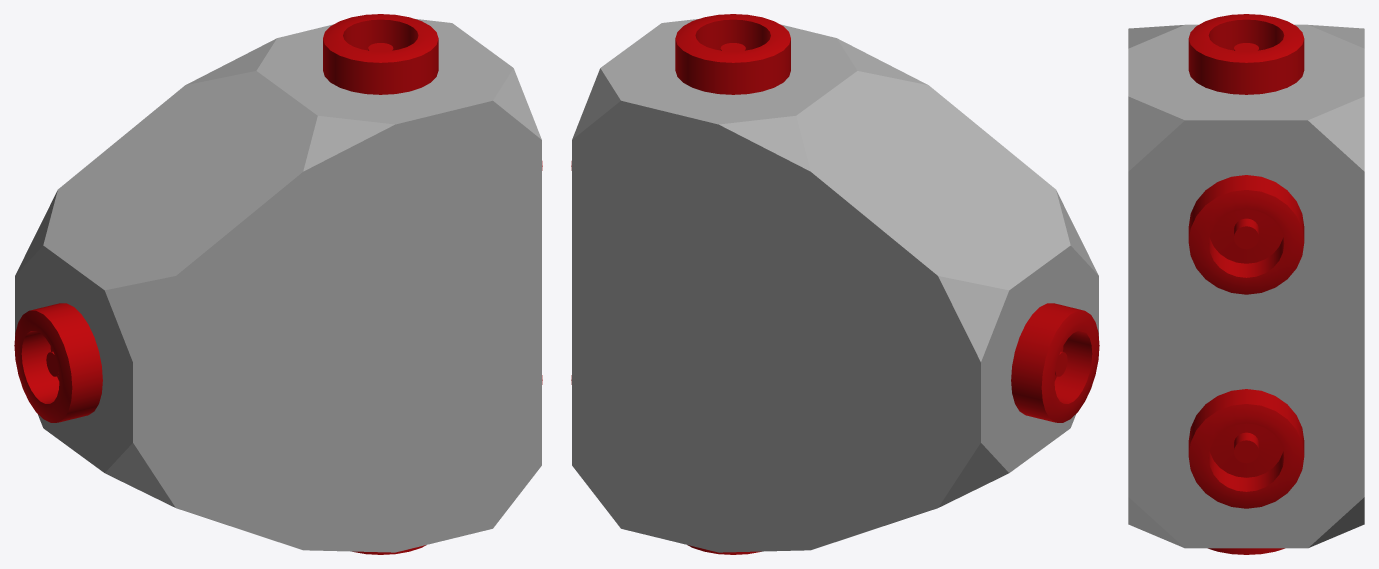
The model's file is PowerJunction.gltf.
3 renders of one model, left to right at view 1: azimuth 30°, elevation 25°; view 2: azimuth 150°, elevation 25°; view 3: azimuth 270°, elevation 25°, orthographic.
Parts seen in each view (by area): view 1: box; view 2: box; view 3: box.
Boxes of the visible parts, x1,y1,x2,y2 form: box: (14,14,542,554); box: (571,14,1099,554); box: (1128,14,1364,554).
Size of the model in its own units: 0.2908 by 0.2908 by 0.125.
